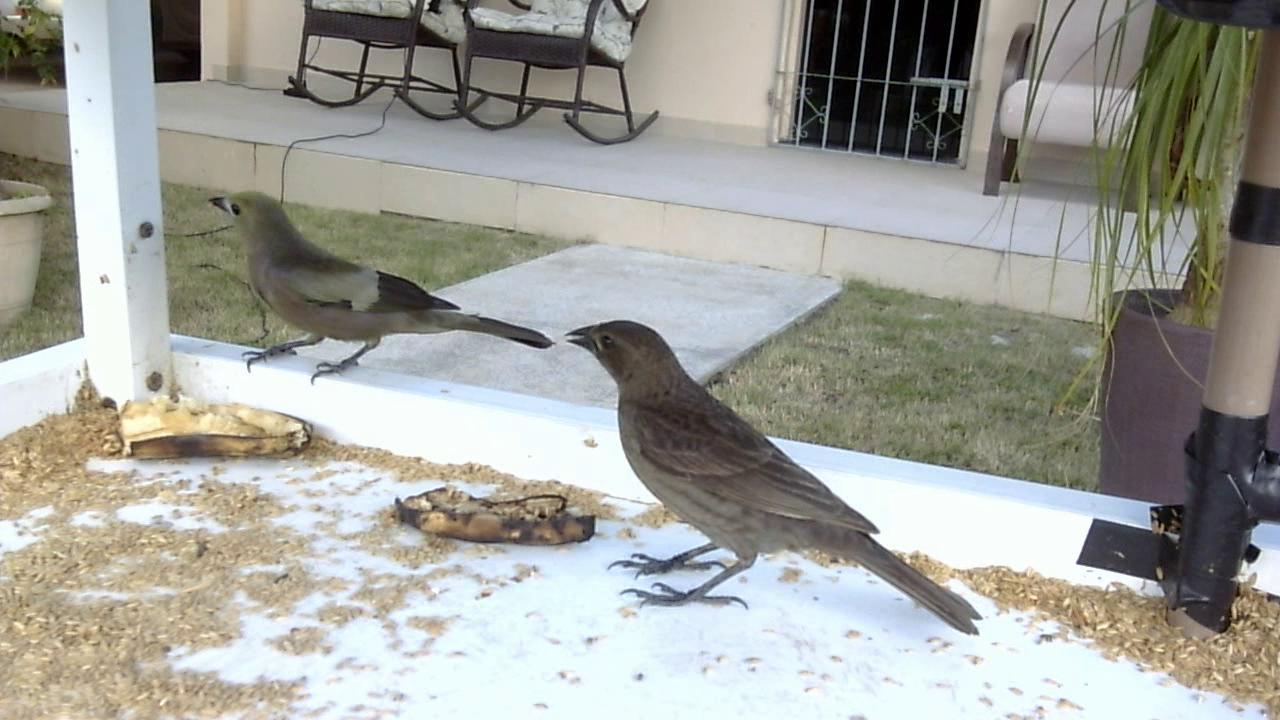chupim: (550, 307, 996, 638)
sanhaco_do_coqueiro: (193, 193, 553, 392)
